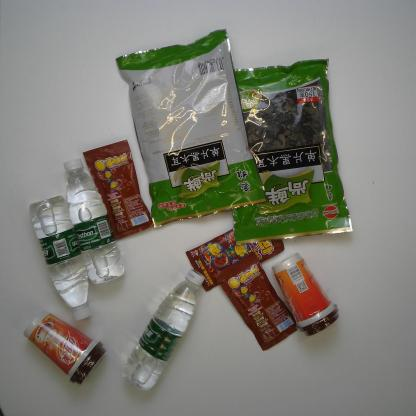Candy: (212, 250, 299, 352), (81, 138, 155, 243), (183, 228, 286, 293)
Dried Food: (115, 27, 270, 229), (225, 55, 355, 248)
Drink: (119, 269, 206, 393), (27, 194, 94, 324), (61, 158, 125, 288)
Instant Drink: (22, 310, 109, 388), (268, 252, 340, 340)
